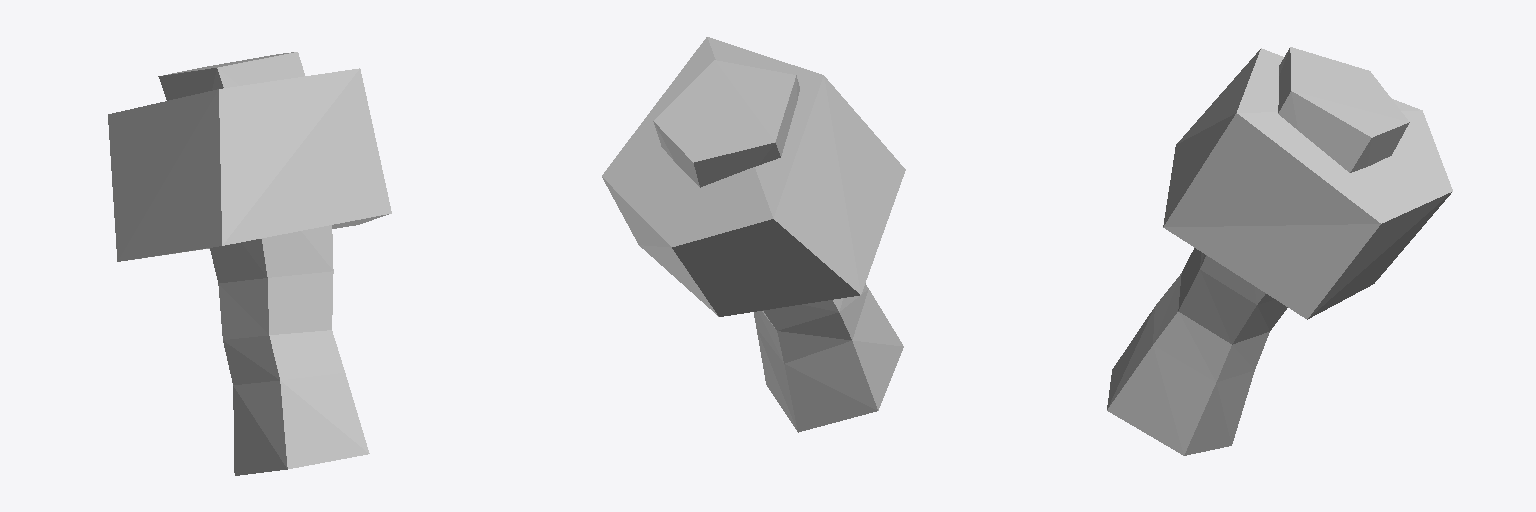
File: brazo_der.obj
3 views of the same model, side by side, from view 1: azimuth 30°, elevation 25°; view 2: azimuth 150°, elevation 25°; view 3: azimuth 270°, elevation 25° (orthographic).
Visible parts, largest first — view 1: Material_#95.001; view 2: Material_#95.001; view 3: Material_#95.001.
Boxes of the visible parts, x1=… form: Material_#95.001: x1=108, y1=52, x2=391, y2=475; Material_#95.001: x1=602, y1=37, x2=905, y2=432; Material_#95.001: x1=1107, y1=47, x2=1452, y2=455.
Size of the model in its own units: 0.6877 by 1.09 by 0.8902.